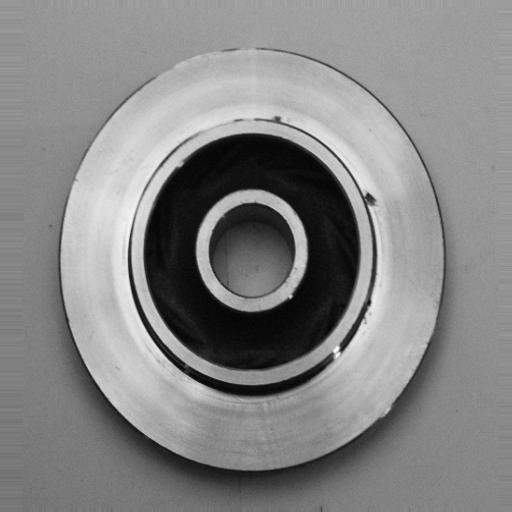crack: (194, 109, 273, 135), (357, 182, 387, 212), (360, 295, 377, 330)
scratch: (322, 334, 356, 371)
unpolished_casting: (58, 44, 448, 477)
